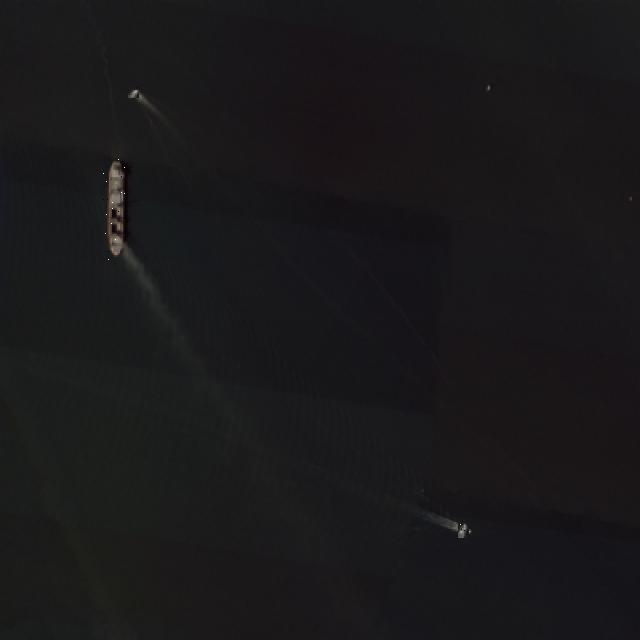boat: (102, 158, 126, 260), (457, 524, 471, 537), (128, 87, 139, 99)
